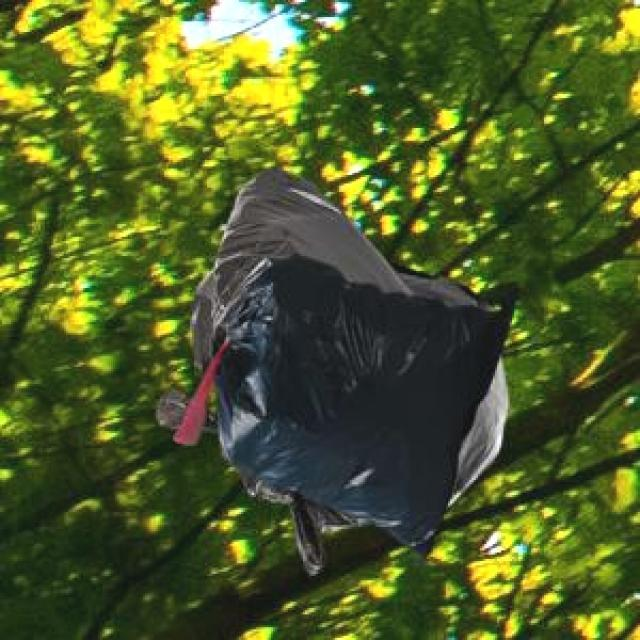Trashbag: (175, 254, 525, 569)
